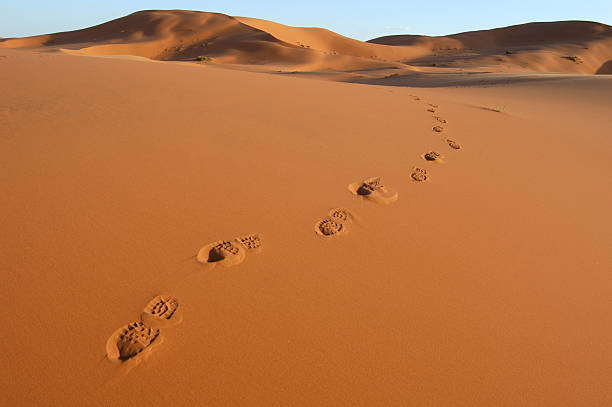human_footprint: (106, 321, 162, 362), (196, 234, 262, 267), (141, 295, 181, 327), (348, 177, 397, 203), (315, 208, 353, 236), (315, 217, 346, 236), (410, 167, 429, 183), (421, 150, 443, 162), (444, 138, 461, 149)
